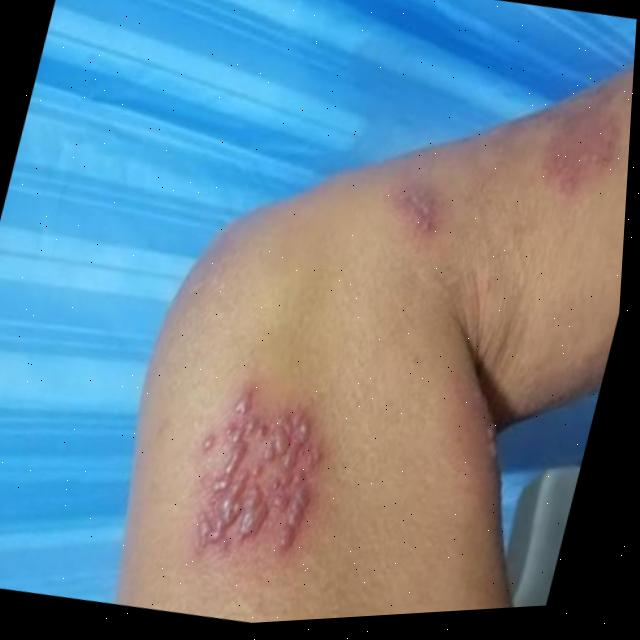Shingles: (170, 369, 342, 579), (529, 74, 633, 211), (381, 169, 460, 240)
